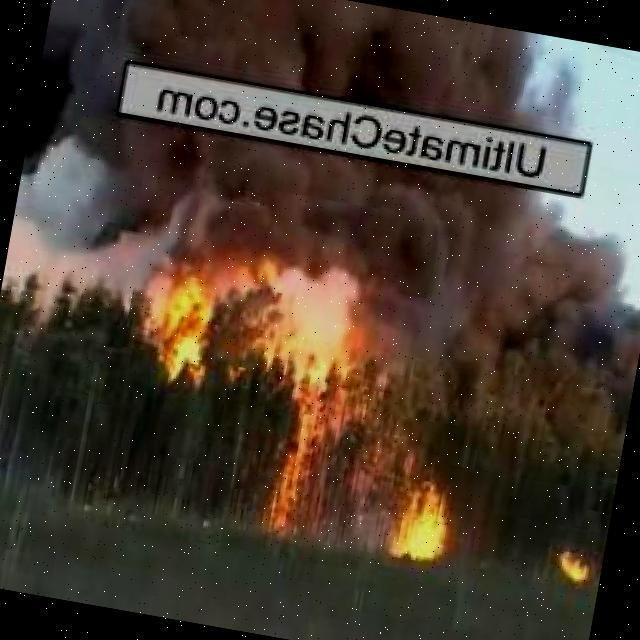Fire: (249, 362, 346, 547), (377, 472, 462, 566), (146, 276, 221, 380), (550, 543, 595, 582)
